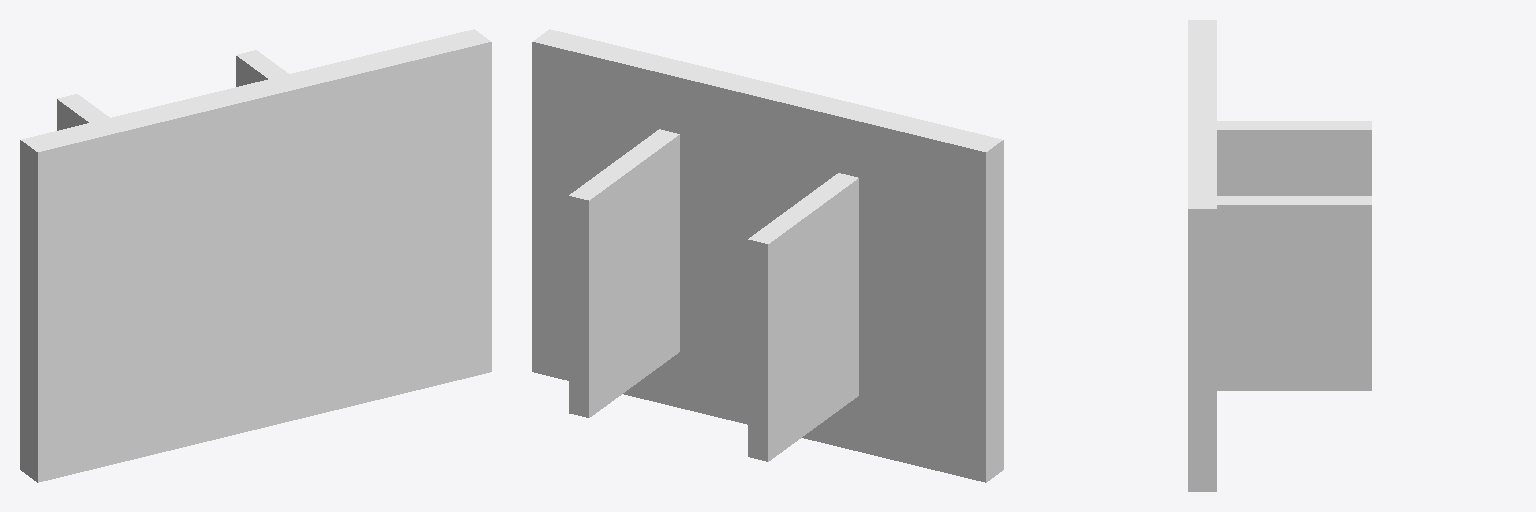
robot.urdf — shelf:
<?xml version="1.0" encoding="utf-8"?>
<!-- This URDF was automatically created by SolidWorks to URDF Exporter! Originally created by [author] ([email redacted]) 
     Commit Version: 1.6.0-1-g15f4949  Build Version: 1.6.7594.29634
     For more information, please see http://wiki.ros.org/sw_urdf_exporter -->
<robot
  name="shelf">
  <link
    name="base_link">
    <inertial>
      <origin
        xyz="-1.92011665109396E-07 0.0142646863040243 3.40138298216383E-07"
        rpy="0 0 0" />
      <mass
        value="0.738765196697482" />
      <inertia
        ixx="0.00222200205021747"
        ixy="1.18403120126475E-08"
        ixz="1.5283539812407E-08"
        iyy="0.00504340136779774"
        iyz="-2.1162909987903E-08"
        izz="0.00371848803790015" />
    </inertial>
    <visual>
      <origin
        xyz="0 0.0079 0 "
        rpy="0 0 0" />
      <geometry>
        <!--mesh
          filename="package://shelf/meshes/base_link.STL" /-->
           <box size="0.24 0.0158 0.167 "/>
      </geometry>
      <material
        name="">
        <color
          rgba="1 1 1 1" />
      </material>
    </visual>

     <visual>
      <origin
        xyz="0.047375 0.05742 0"
        rpy="0 0 0" />
      <geometry>
        <!--mesh
          filename="package://shelf/mesh
          es/base_link.STL" /-->
           <box size="0.011 0.08324 0.11"/>
      </geometry>
      <material
        name="">
        <color
          rgba="1 1 1 1" />
      </material>
    </visual>

     <visual>
      <origin
        xyz="-0.047375 0.05742 0 "
        rpy="0 0 0" />
      <geometry>
        <!--mesh
          filename="package://shelf/meshes/base_link.STL" /-->
         <box size="0.011 0.08324 0.11"/>
      </geometry>
      <material
        name="">
        <color
          rgba="1 1 1 1" />
      </material>
    </visual>




    <!--collision-->


    <collision>
      <origin
        xyz="0 0.0079 0 "
        rpy="0 0 0" />
      <geometry>
         <box size="0.24 0.0158 0.167 "/>
      </geometry>
    </collision>

    <collision>
      <origin
        xyz="0.047375 0.05742 0"
        rpy="0 0 0" />
      <geometry>
          <box size="0.011 0.08324 0.11"/>
      </geometry>
    </collision>

    <collision>
      <origin
        xyz="-0.047375 0.05742 0 "
        rpy="0 0 0" />
      <geometry>
        <box size="0.011 0.08324 0.11"/>
      </geometry>
    </collision>
  </link>
</robot>

--- What the picture shows (computed from the rendered views, not written in the file) ---
The picture shows the robot from 3 angles, left to right: view 1: azimuth 30°, elevation 25°; view 2: azimuth 150°, elevation 25°; view 3: azimuth 270°, elevation 25°; orthographic projection.
Robot: shelf — 1 links, 0 joints (none); root link base_link; default pose: all joints at 0.
Links seen in each view (by area): view 1: base_link; view 2: base_link; view 3: base_link.
Boxes of the visible links, x1,y1,x2,y2 form: base_link: [20, 29, 491, 482]; base_link: [532, 29, 1003, 482]; base_link: [1188, 20, 1371, 491].
Bounding box of the posed robot: 0.24 × 0.099 × 0.167 m (x, y, z).
Geometry: primitives only (box / cylinder / sphere), no mesh files.
